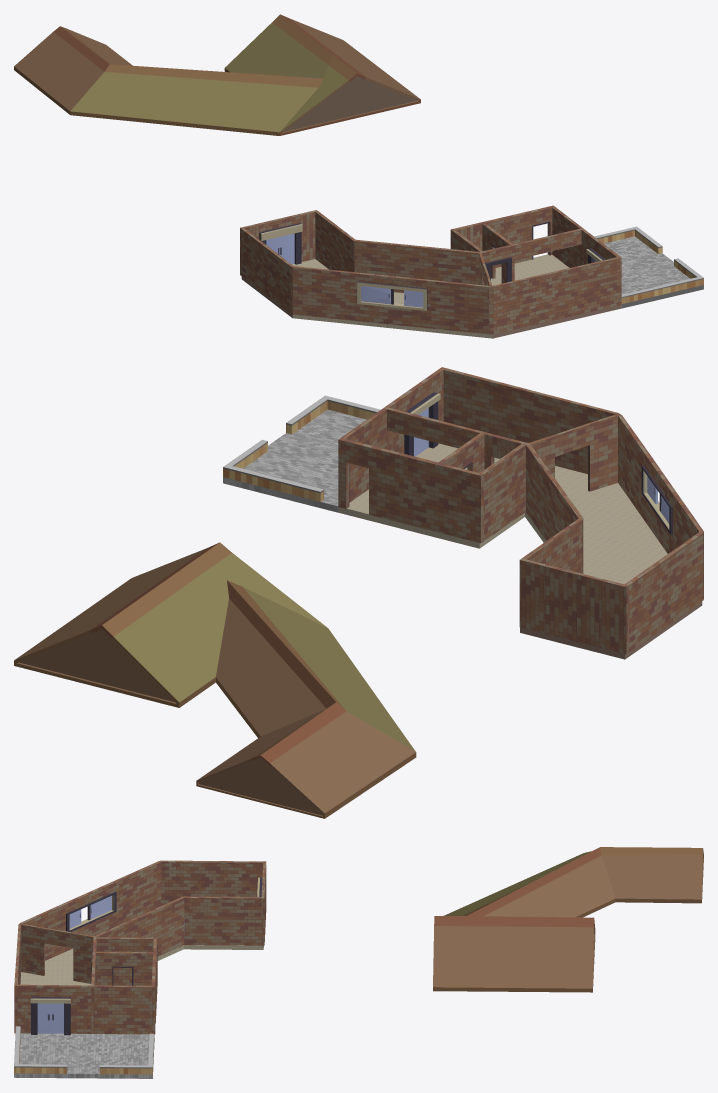
File: RoomBase.fbx
The picture shows the model from 3 angles, top to bottom: view 1: azimuth 30°, elevation 25°; view 2: azimuth 150°, elevation 25°; view 3: azimuth 270°, elevation 25°; orthographic projection. The views are drawn at different scales.
Visible parts, largest first — view 1: Atap, Wall, Wall.002, Plataran, Wall.006, Floor, Wall.001, Wall.011, Wall.015, Wall.005, Wall.014, Wall.008 (+4 smaller); view 2: Atap, Floor, Wall.015, Plataran, Wall.002, Wall.011, Wall.001, Wall, Wall.003, Wall.004, Wall.006, Wall.007 (+6 smaller); view 3: Atap, Plataran, Wall, Wall.005, Wall.001, Wall.007, Wall.009, Wall.003, Wall.006, Floor, Wall.010, Wall.004 (+4 smaller).
Part boxes in pixels (left/top/right/bottom): Atap: left=14, top=14, right=420, bottom=135; Wall: left=293, top=266, right=489, bottom=334; Wall.002: left=489, top=256, right=621, bottom=334; Plataran: left=594, top=226, right=703, bottom=308; Wall.006: left=352, top=239, right=479, bottom=292; Floor: left=241, top=254, right=620, bottom=338; Wall.001: left=241, top=228, right=293, bottom=314; Wall.011: left=240, top=210, right=317, bottom=275; Wall.015: left=450, top=205, right=554, bottom=267; Wall.005: left=315, top=211, right=354, bottom=271; Wall.014: left=357, top=281, right=427, bottom=310; Wall.008: left=513, top=228, right=583, bottom=265; Atap: left=14, top=542, right=416, bottom=818; Floor: left=338, top=443, right=702, bottom=659; Wall.015: left=338, top=438, right=483, bottom=543; Plataran: left=223, top=395, right=380, bottom=512; Wall.002: left=440, top=367, right=621, bottom=474; Wall.011: left=519, top=558, right=628, bottom=654; Wall.001: left=625, top=531, right=703, bottom=652; Wall: left=618, top=415, right=703, bottom=553; Wall.003: left=528, top=414, right=617, bottom=491; Wall.004: left=480, top=444, right=525, bottom=540; Wall.006: left=526, top=444, right=583, bottom=573; Wall.007: left=386, top=369, right=443, bottom=456; Atap: left=433, top=847, right=703, bottom=992; Plataran: left=14, top=1026, right=154, bottom=1078; Wall: left=21, top=861, right=161, bottom=960; Wall.005: left=184, top=896, right=261, bottom=945; Wall.001: left=159, top=860, right=263, bottom=905; Wall.007: left=17, top=984, right=91, bottom=1035; Wall.009: left=94, top=985, right=151, bottom=1034; Wall.003: left=21, top=924, right=93, bottom=983; Wall.006: left=95, top=896, right=184, bottom=956; Floor: left=20, top=945, right=263, bottom=1034; Wall.010: left=96, top=951, right=152, bottom=985; Wall.004: left=96, top=937, right=153, bottom=985.
Size of the model in its own units: 5180 by 1347 by 8820.
